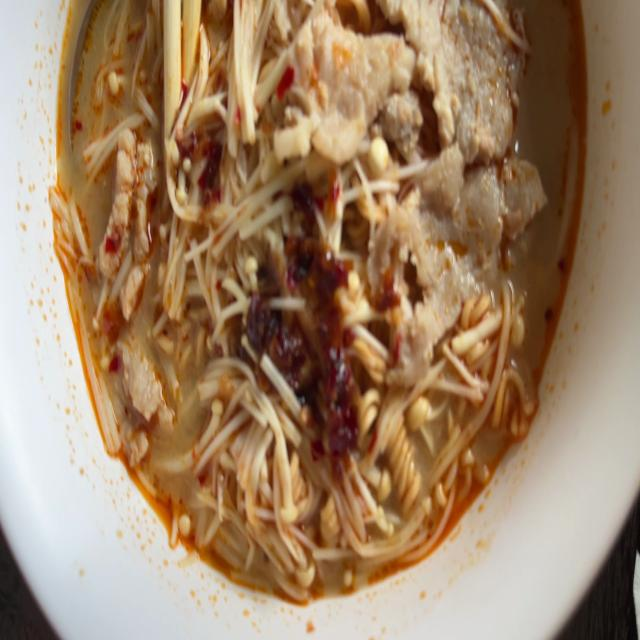noodle: (42, 0, 603, 606)
